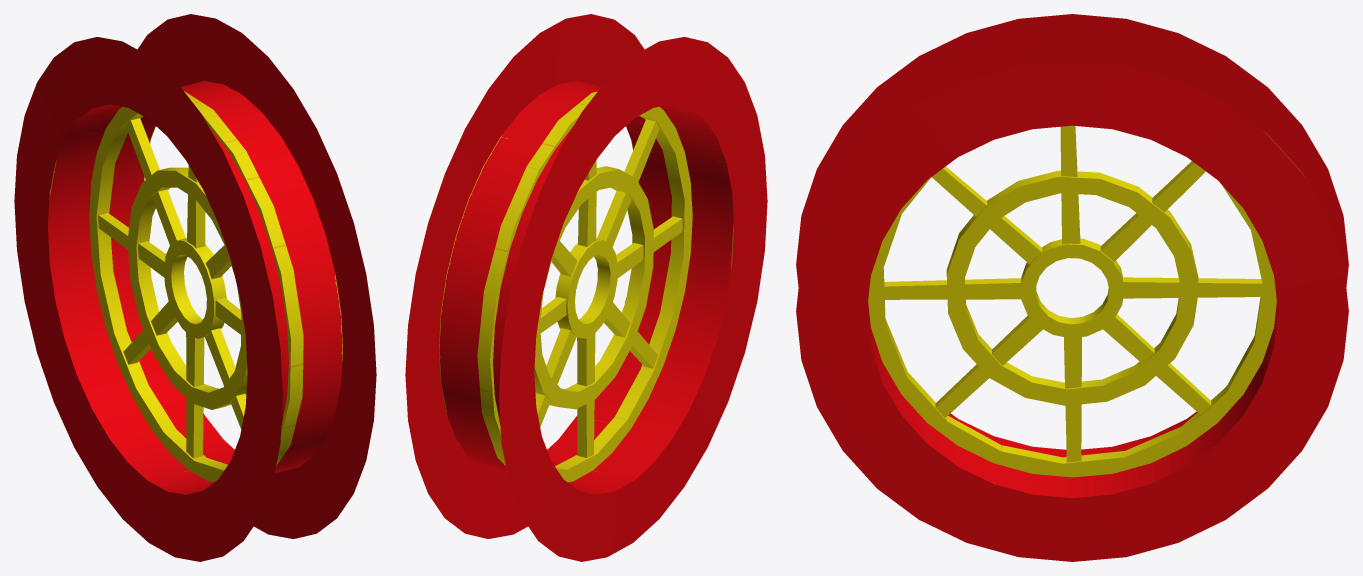
Rendered from brick_circle.fbx.
3 views of the same model, side by side, from view 1: azimuth 30°, elevation 25°; view 2: azimuth 150°, elevation 25°; view 3: azimuth 270°, elevation 25° (orthographic). The views are drawn at different scales.
Parts seen in each view (by area): view 1: circles; view 2: circles; view 3: circles.
Boxes of the visible parts, x1=… form: circles: x1=14, y1=14, x2=376, y2=561; circles: x1=405, y1=14, x2=767, y2=561; circles: x1=796, y1=14, x2=1348, y2=561.
Bounding box in the file's own units: 38.73 × 189 × 189.
1 material, 1 textured.
